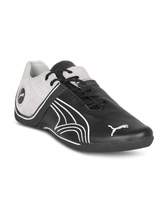shoes: (13, 53, 156, 153)
